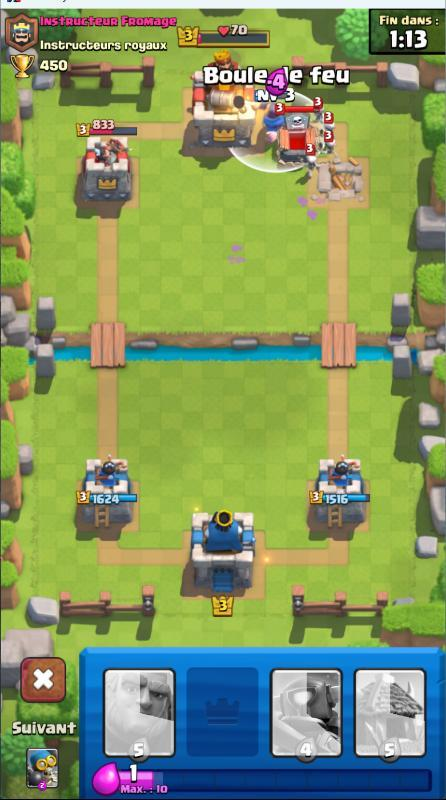enemy_skeletons: (315, 124, 339, 149), (307, 97, 330, 120)
enemy_tombstone: (273, 105, 319, 167)
player_skeletons: (297, 149, 321, 172)
